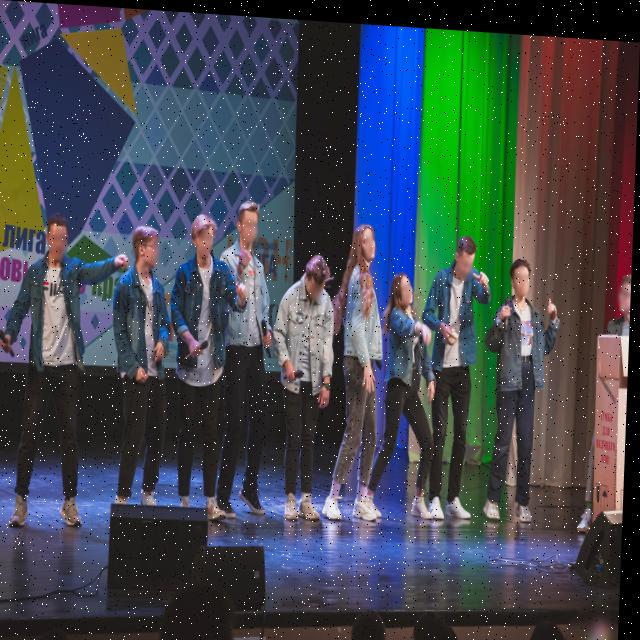Person: (11, 206, 106, 534), (482, 240, 562, 541), (422, 223, 498, 530), (327, 214, 396, 520), (278, 235, 349, 530), (113, 200, 178, 519), (225, 190, 279, 522), (179, 194, 234, 519), (373, 259, 437, 526), (594, 255, 634, 338)
